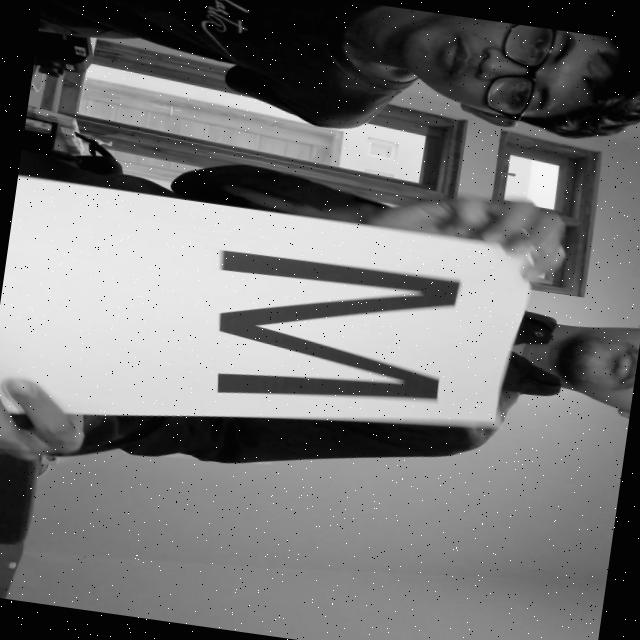m: (183, 231, 482, 436)
